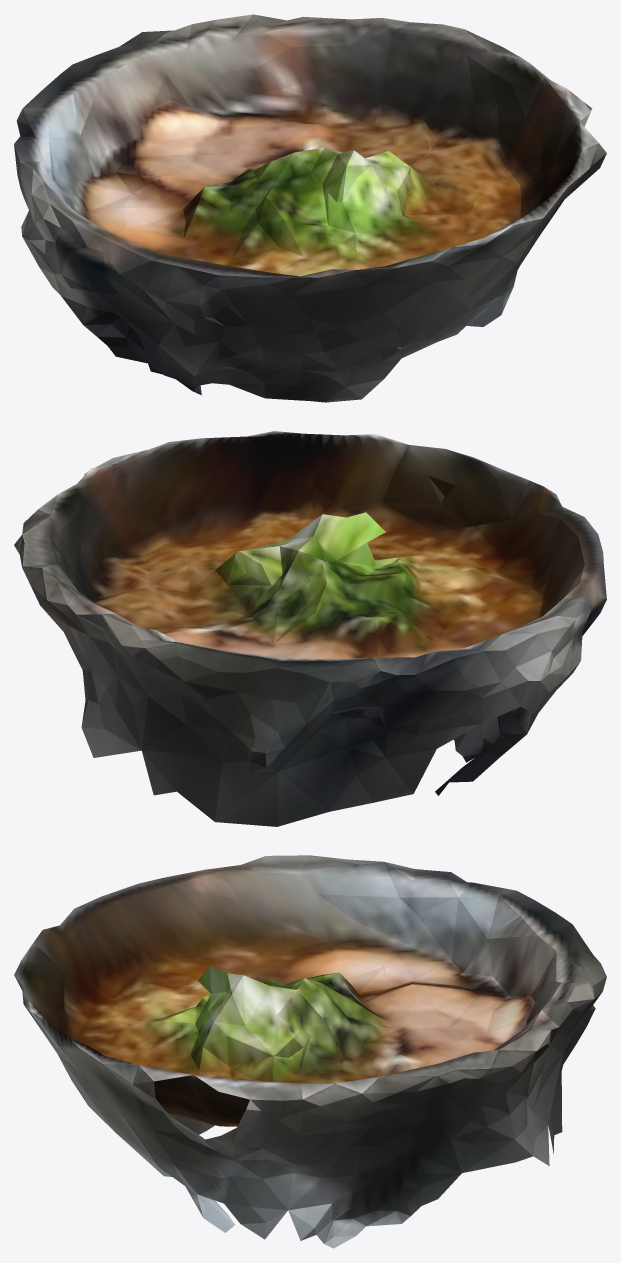
3 renders of one model, top to bottom at view 1: azimuth 30°, elevation 25°; view 2: azimuth 150°, elevation 25°; view 3: azimuth 270°, elevation 25°, orthographic.
Parts seen in each view (by area): view 1: map_4908f0c2-973d-491d-bd44-b17f7a9e2399_densified_mesh_texture; view 2: map_4908f0c2-973d-491d-bd44-b17f7a9e2399_densified_mesh_texture; view 3: map_4908f0c2-973d-491d-bd44-b17f7a9e2399_densified_mesh_texture.
Part boxes in pixels (x1,y1,x2,y2): map_4908f0c2-973d-491d-bd44-b17f7a9e2399_densified_mesh_texture: [14, 14, 606, 402]; map_4908f0c2-973d-491d-bd44-b17f7a9e2399_densified_mesh_texture: [14, 431, 606, 826]; map_4908f0c2-973d-491d-bd44-b17f7a9e2399_densified_mesh_texture: [14, 855, 606, 1248].
Size of the model in its own units: 0.1974 by 0.0792 by 0.1951.
